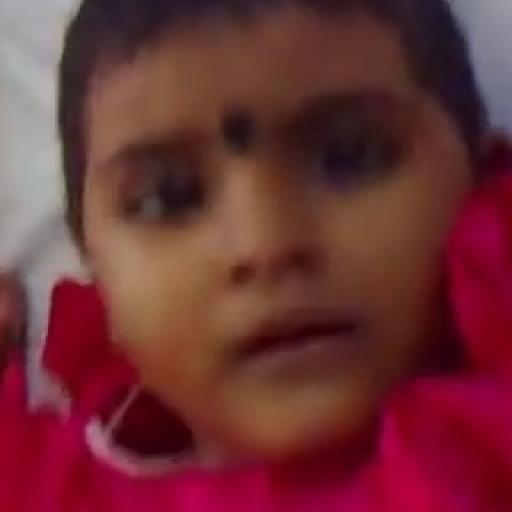Autism: (67, 30, 450, 500)
